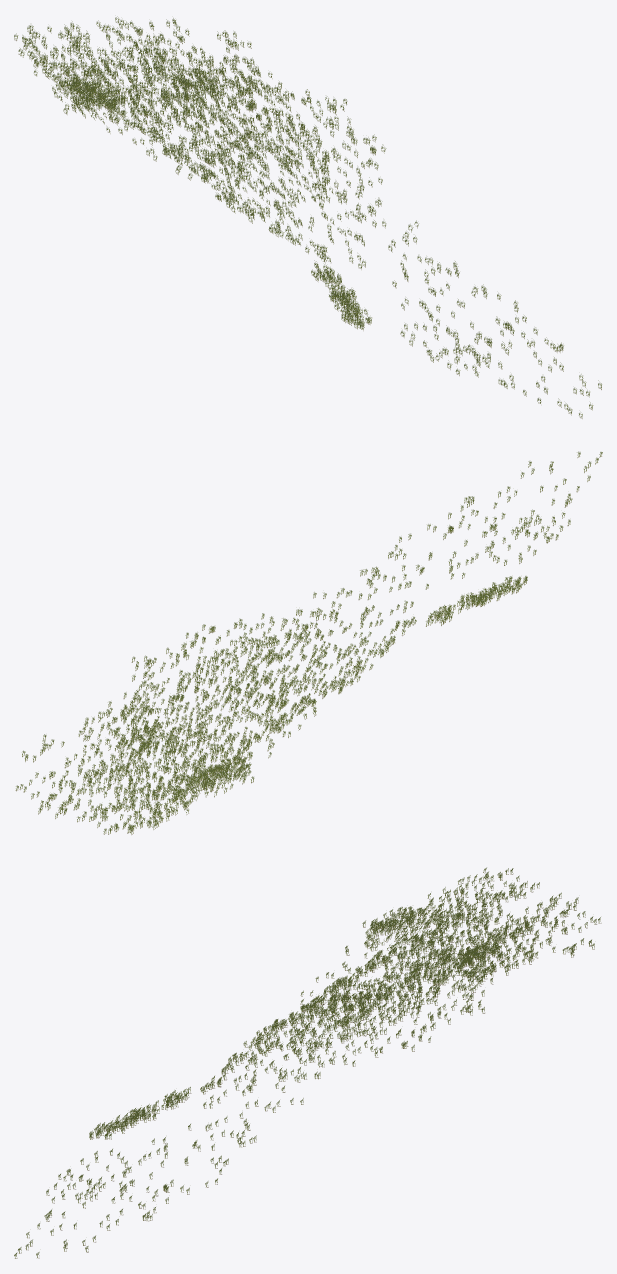
File: MOD_CropFG.fbx
3 views of the same model, one above another, from view 1: azimuth 30°, elevation 25°; view 2: azimuth 150°, elevation 25°; view 3: azimuth 330°, elevation 25° (orthographic). The views are drawn at different scales.
Visible parts, largest first — view 1: MOD_CropFG; view 2: MOD_CropFG; view 3: MOD_CropFG.
Boxes of the visible parts, left/top/right/bottom form: MOD_CropFG: left=14, top=16, right=601, bottom=418; MOD_CropFG: left=15, top=451, right=602, bottom=834; MOD_CropFG: left=14, top=867, right=601, bottom=1258.
Size of the model in its own units: 1301 by 215 by 5859.
Materials: 1 (1 with a texture image).
